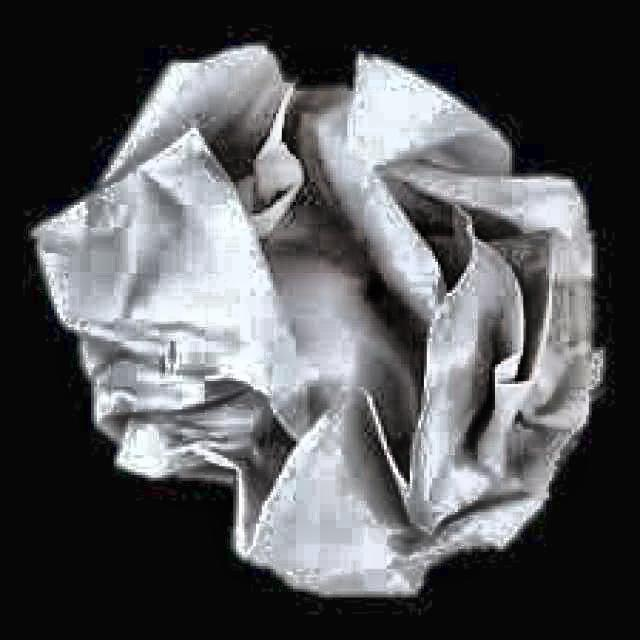Paper: (26, 34, 603, 597)
